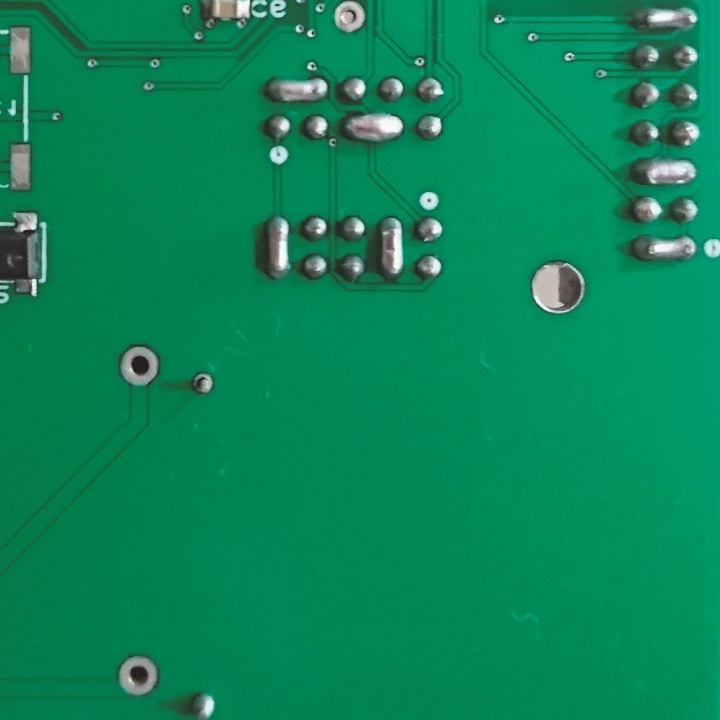F: (115, 343, 163, 389), (117, 653, 160, 699), (332, 1, 368, 38), (188, 370, 218, 398)
P: (339, 109, 409, 148), (630, 153, 699, 190), (262, 72, 332, 105), (628, 232, 699, 264), (376, 213, 407, 286), (631, 3, 700, 35), (262, 212, 293, 282)
